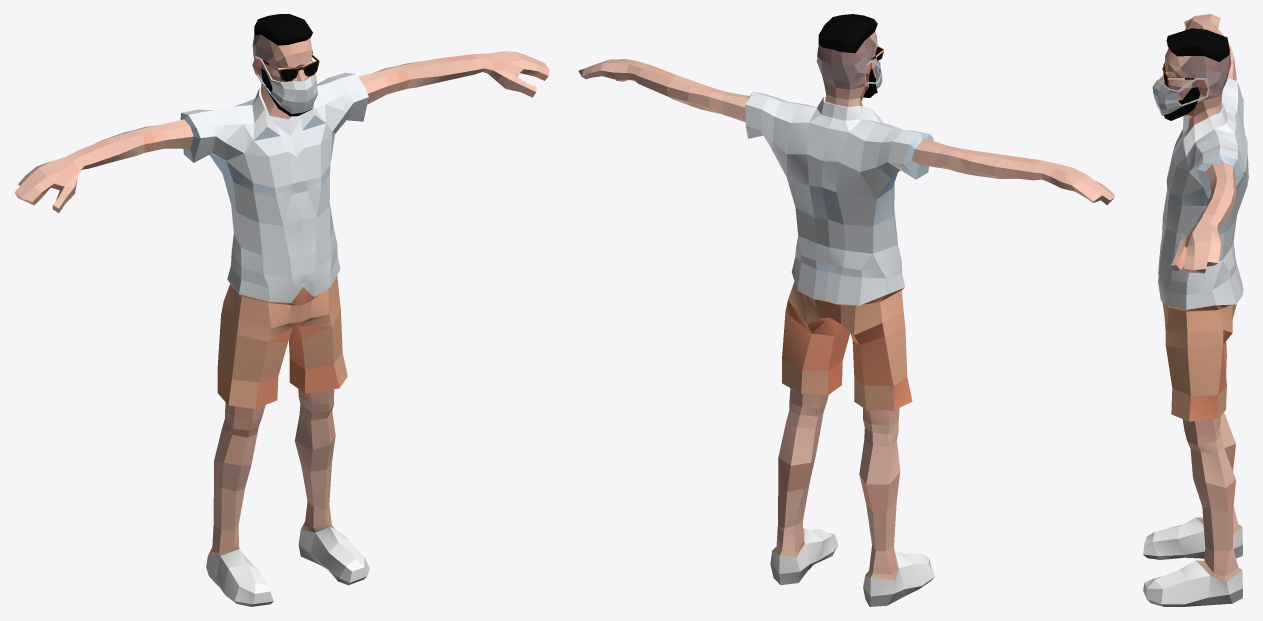
File: casual_Male_J-model.obj
3 renders of one model, left to right at view 1: azimuth 30°, elevation 25°; view 2: azimuth 150°, elevation 25°; view 3: azimuth 270°, elevation 25°, orthographic. The views are drawn at different scales.
Parts seen in each view (by area): view 1: casual_Male_J, acc_mask_white; view 2: casual_Male_J; view 3: casual_Male_J, acc_mask_white.
Boxes of the visible parts, x1,y1,x2,y2 form: casual_Male_J: (14, 14, 549, 606); acc_mask_white: (255, 56, 317, 113); casual_Male_J: (578, 14, 1114, 606); casual_Male_J: (1143, 14, 1248, 606); acc_mask_white: (1152, 76, 1208, 115).
Size of the model in its own units: 168 by 169 by 29.83.
